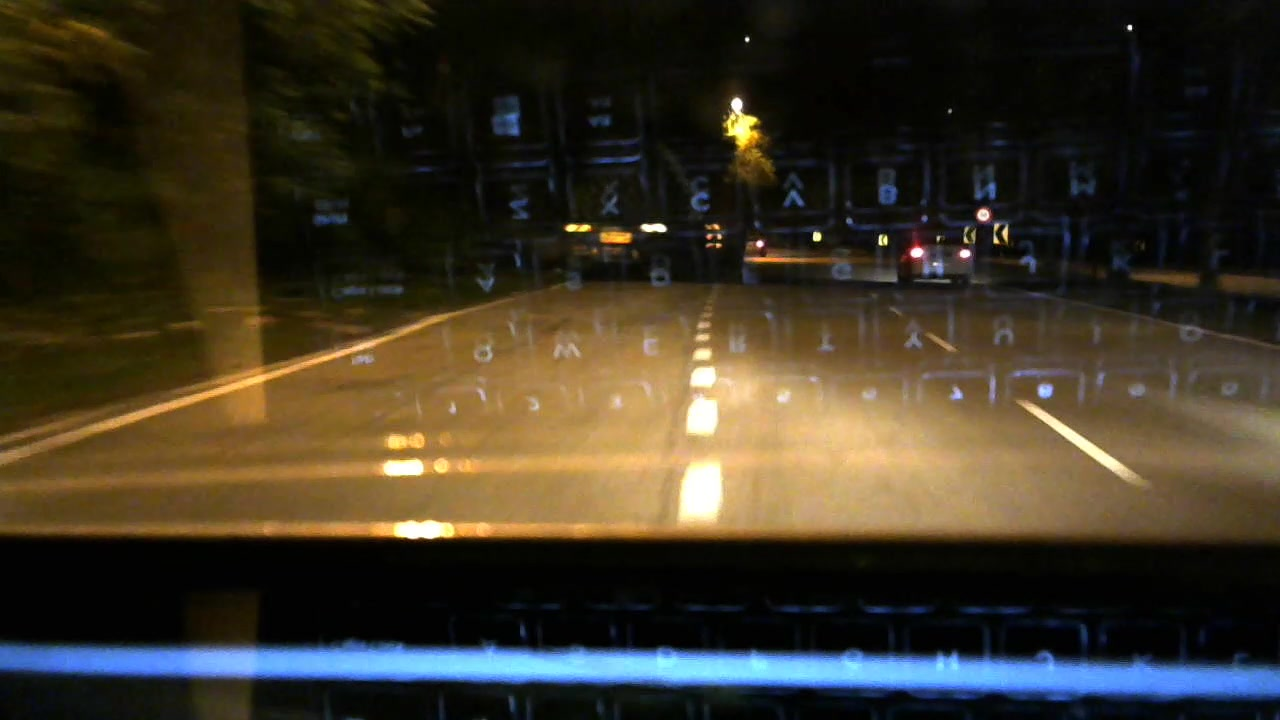Car: (895, 227, 975, 290)
